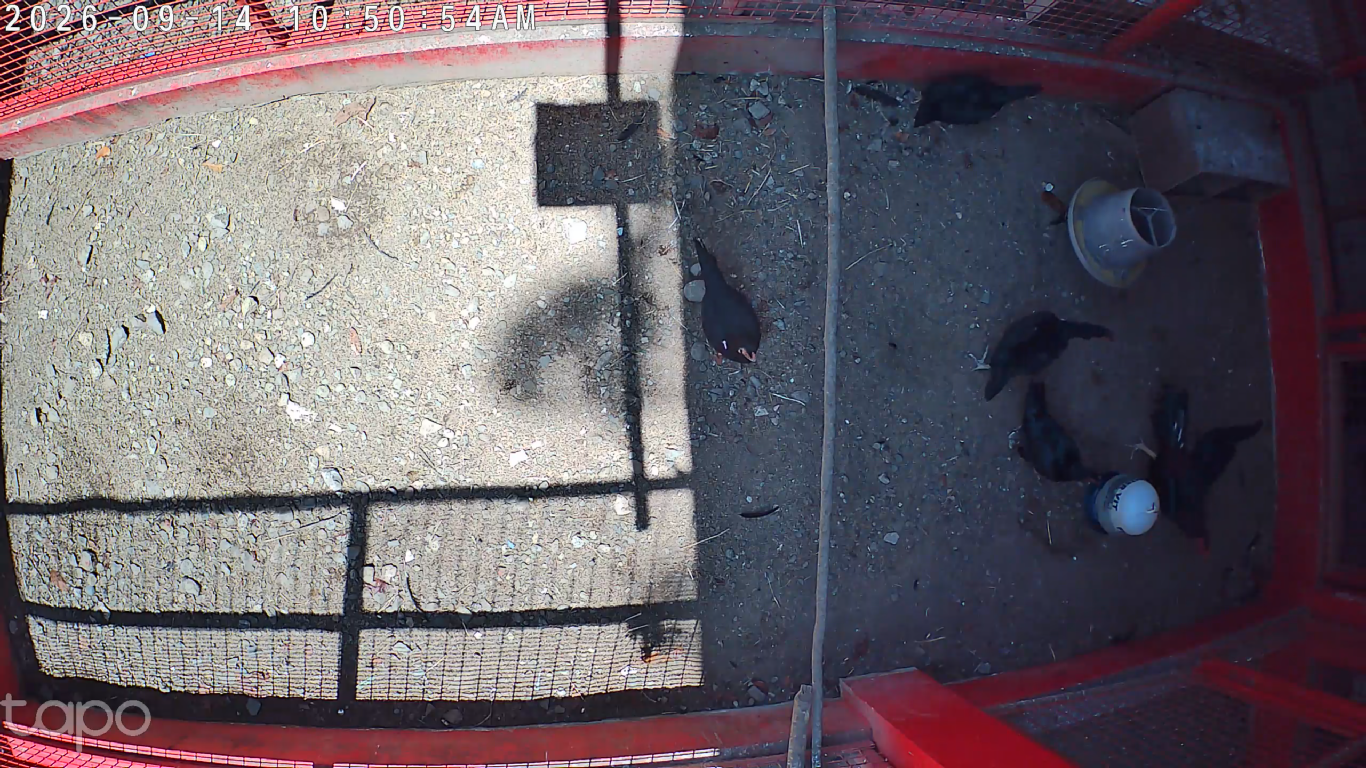Chicken: (964, 305, 1120, 401), (985, 375, 1107, 491), (689, 236, 762, 369)
